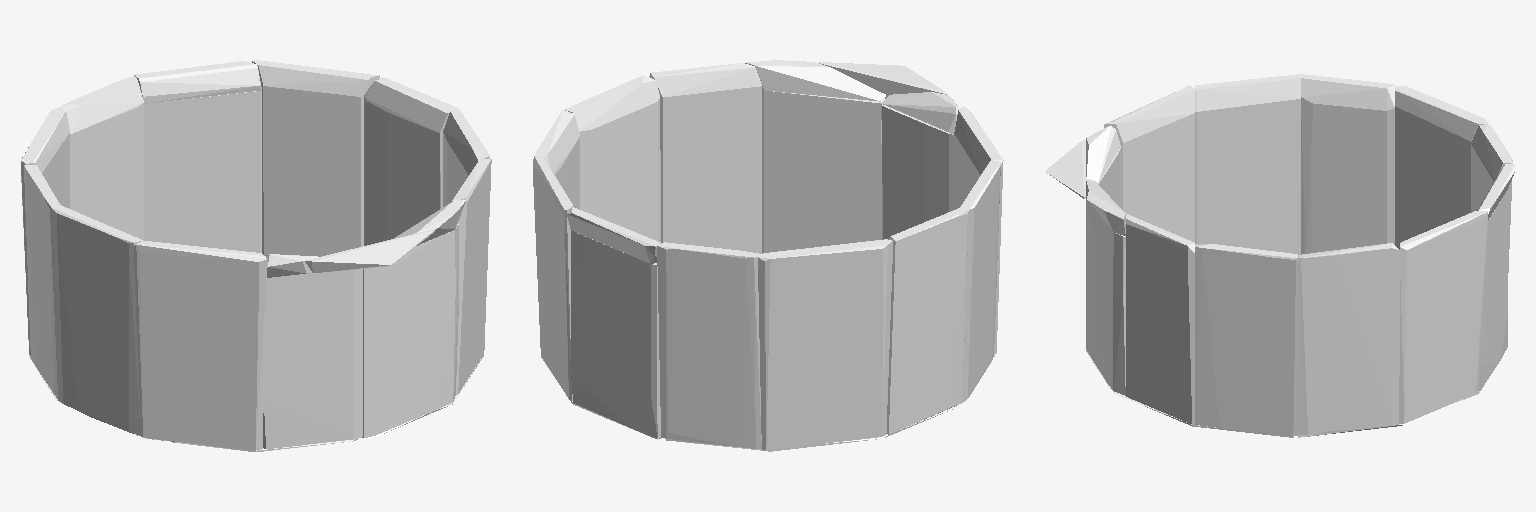
robot.urdf — cube.urdf:
<?xml version="0.0" ?>
<robot name="cube.urdf">
  <link name="baseLink">
    <contact>
      <lateral_friction value="1.0"/>
      <inertia_scaling value="3.0"/>
    </contact>
    <inertial>
      <origin rpy="0 0 0" xyz="-0.01 0 0.02"/>
       <mass value=".1"/>
       <inertia ixx="1" ixy="0" ixz="0" iyy="1" iyz="0" izz="1"/>
    </inertial>
    <visual>
      <origin rpy="1.57 0 0" xyz="0 0 0"/>
      <geometry>
				<mesh filename="cup_decomp_thin.obj" scale="0.24 0.09 0.24"/>
      </geometry>
       <material name="white">
        <color rgba="1 1 1 1"/>
      </material>
    </visual>
    <collision>
      <origin rpy="1.57 0 0" xyz="0 0 0"/>
      <geometry>
	 	<mesh filename="cup_decomp_thin.obj" scale="0.24 0.09 0.24"/>
      </geometry>
    </collision>
  </link>
</robot>

--- Render facts (derived) ---
3 views of the same robot in one strip: view 1: azimuth 30°, elevation 25°; view 2: azimuth 150°, elevation 25°; view 3: azimuth 270°, elevation 25° (orthographic).
Robot: cube.urdf — 1 links, 0 joints (none); root link baseLink; default pose: all joints at 0.
Links seen in each view (by area): view 1: baseLink; view 2: baseLink; view 3: baseLink.
Boxes of the visible links, bbox=[...] form: baseLink: bbox=[21, 60, 491, 451]; baseLink: bbox=[533, 60, 1003, 451]; baseLink: bbox=[1045, 74, 1515, 437].
Bounding box of the posed robot: 0.5158 × 0.5566 × 0.2495 m (x, y, z).
Meshes: 1 distinct files referenced, 1 mesh visuals loaded (1 OBJ).